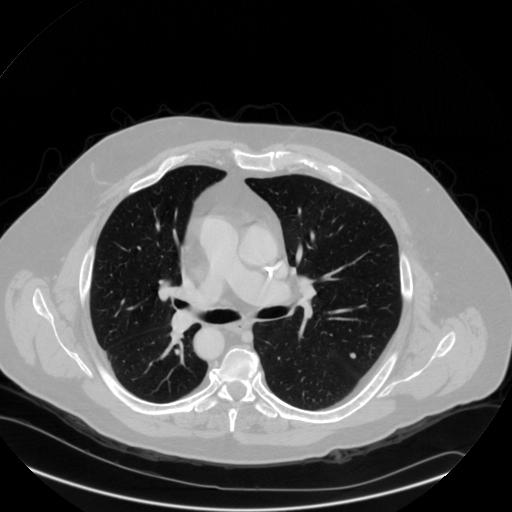nodule: (350, 350, 361, 361)
